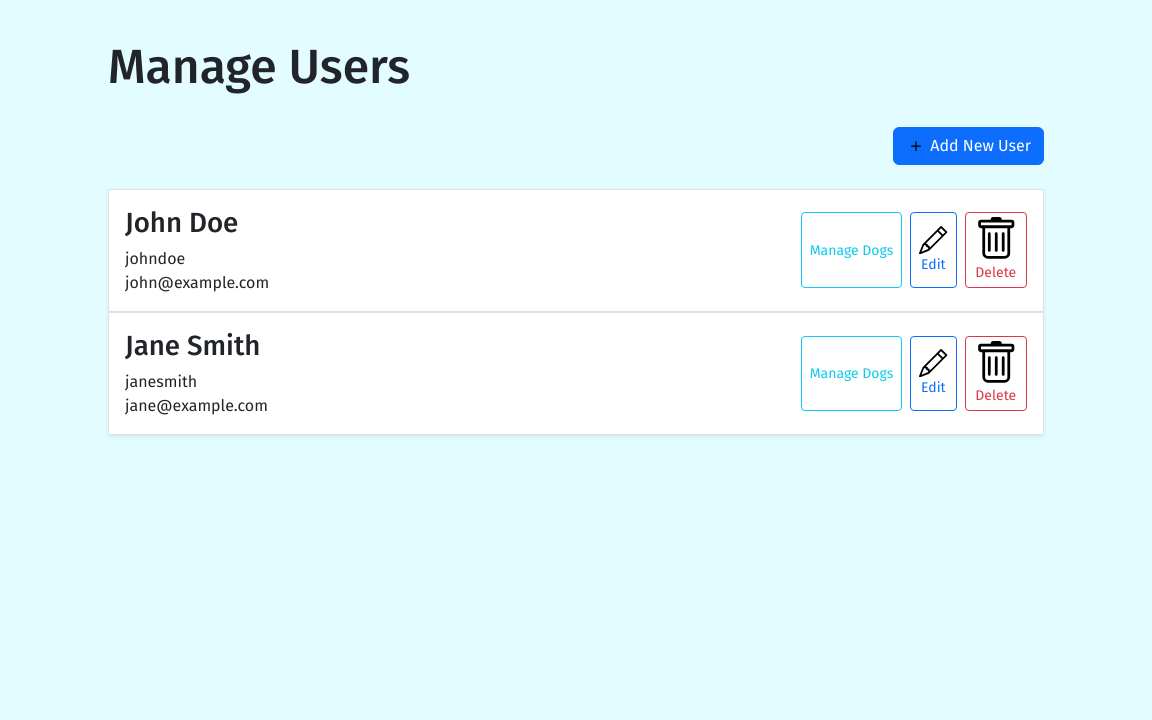
Test: ManageUsers Component › opens manage dogs modal and displays dogs
expect the heading "John Doe" is shown: met, box top-left (125, 206), bottom-right (238, 239)
// Find and click manage dogs button for the first user
Click the button "Manage Dogs" in the row of "john@example.com" at (851, 250), box top-left (801, 212), bottom-right (902, 288)
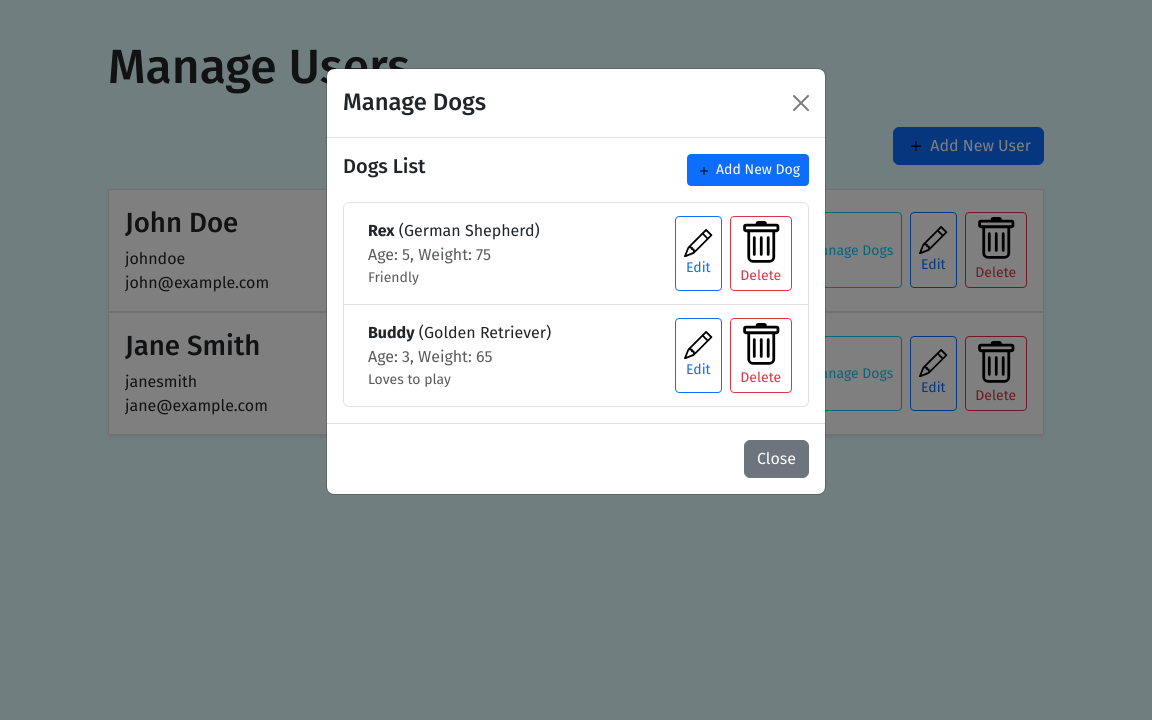
expect the text "Rex" is shown: met, box top-left (368, 221), bottom-right (394, 240)
expect the text "Buddy" is shown: met, box top-left (368, 323), bottom-right (414, 342)
